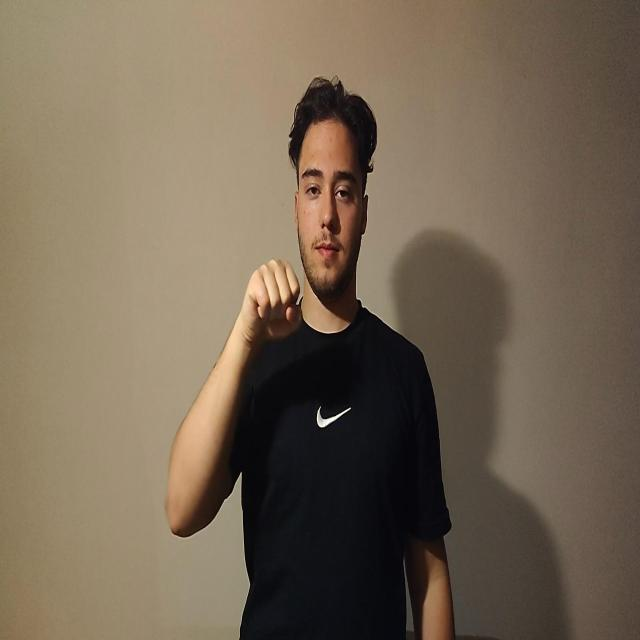yes: (241, 257, 302, 350)
